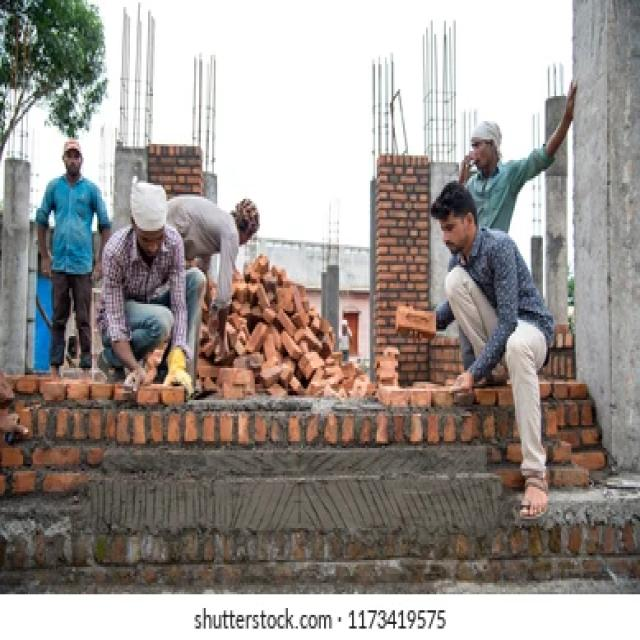Masonary: (11, 186, 531, 570)
